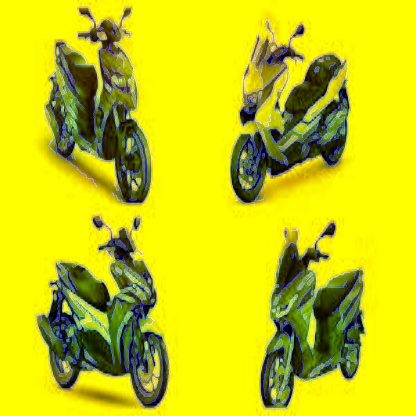bike: (229, 7, 352, 206), (47, 213, 172, 394), (40, 10, 155, 196), (257, 228, 363, 404)
